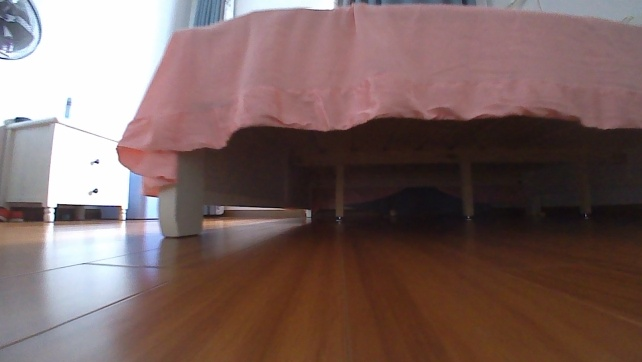bed1: (113, 0, 641, 240)
cabinet: (2, 113, 132, 225)
